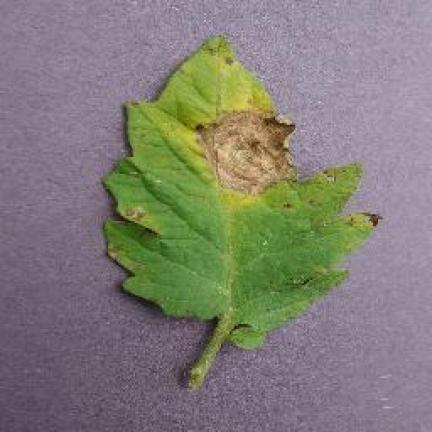leaf: (105, 37, 375, 386)
